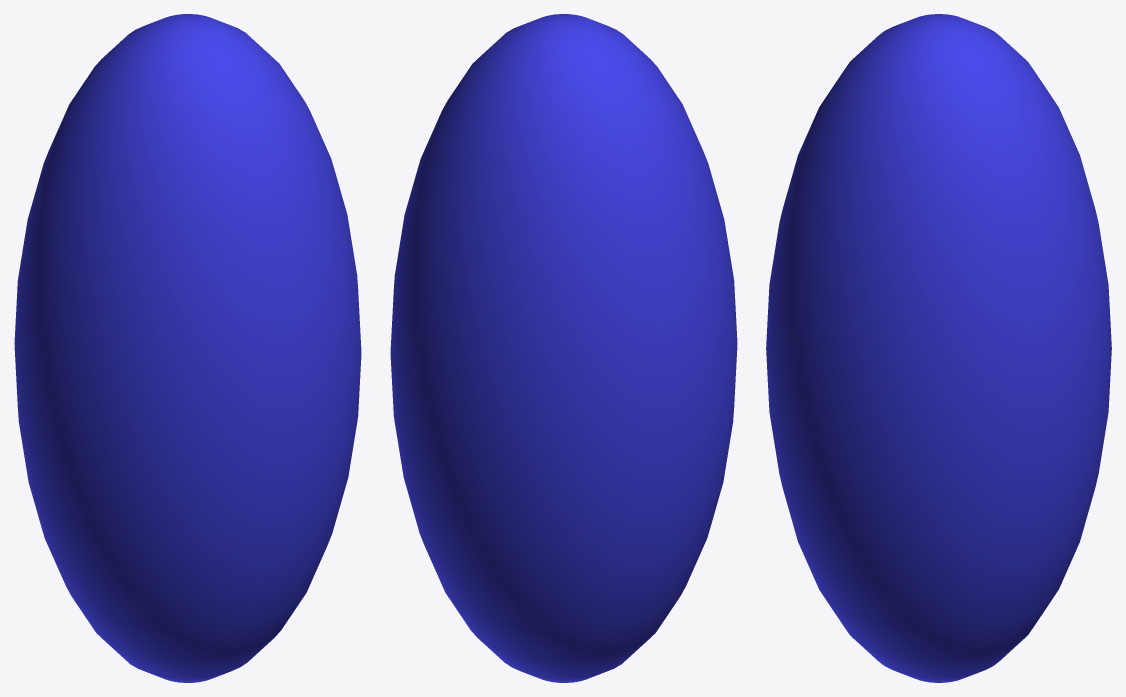
Rendered from water.glb.
3 renders of one model, left to right at view 1: azimuth 30°, elevation 25°; view 2: azimuth 150°, elevation 25°; view 3: azimuth 270°, elevation 25°, orthographic.
Visible parts, largest first — view 1: Sphere; view 2: Sphere; view 3: Sphere.
Part boxes in pixels (box(x1,y1,x2,y2)): Sphere: box(14, 14, 361, 682); Sphere: box(390, 14, 737, 682); Sphere: box(766, 14, 1111, 682).
Bounding box in the file's own units: 0.5848 × 1.21 × 0.5805.
